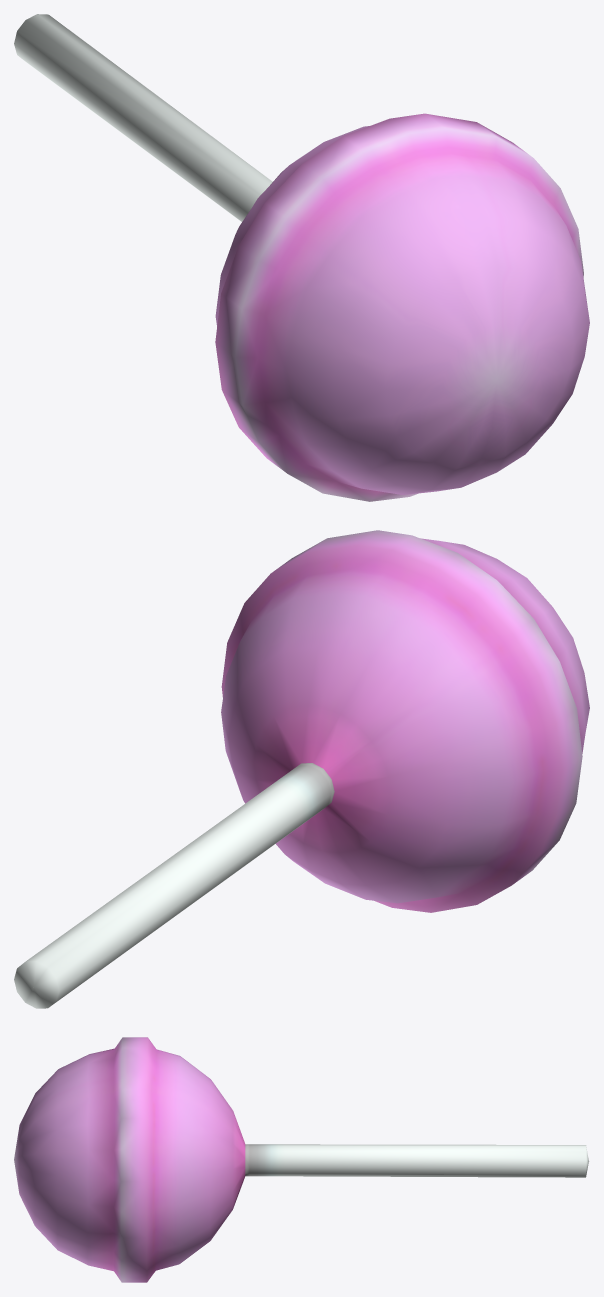
The model's file is LolipopHammer.obj.
3 renders of one model, top to bottom at view 1: azimuth 30°, elevation 25°; view 2: azimuth 150°, elevation 25°; view 3: azimuth 270°, elevation 25°, orthographic. The views are drawn at different scales.
Parts seen in each view (by area): view 1: Object0012; view 2: Object0012; view 3: Object0012.
Part boxes in pixels (bbox=[...]): Object0012: bbox=[14, 14, 589, 501]; Object0012: bbox=[14, 530, 589, 1008]; Object0012: bbox=[14, 1037, 588, 1282].
Size of the model in its own units: 7.34 by 7.33 by 17.13.
1 material, 1 textured.
